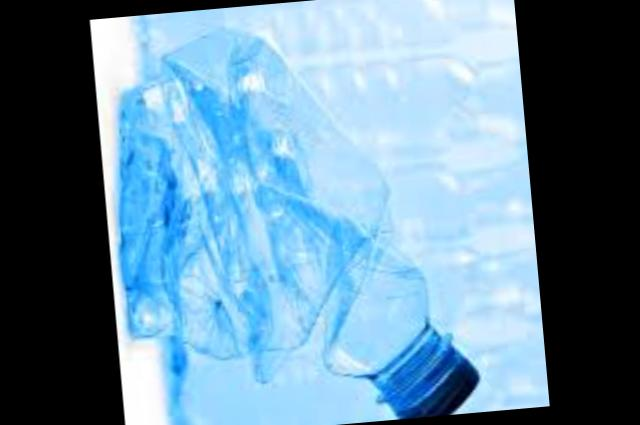plastic: (124, 31, 481, 418)
